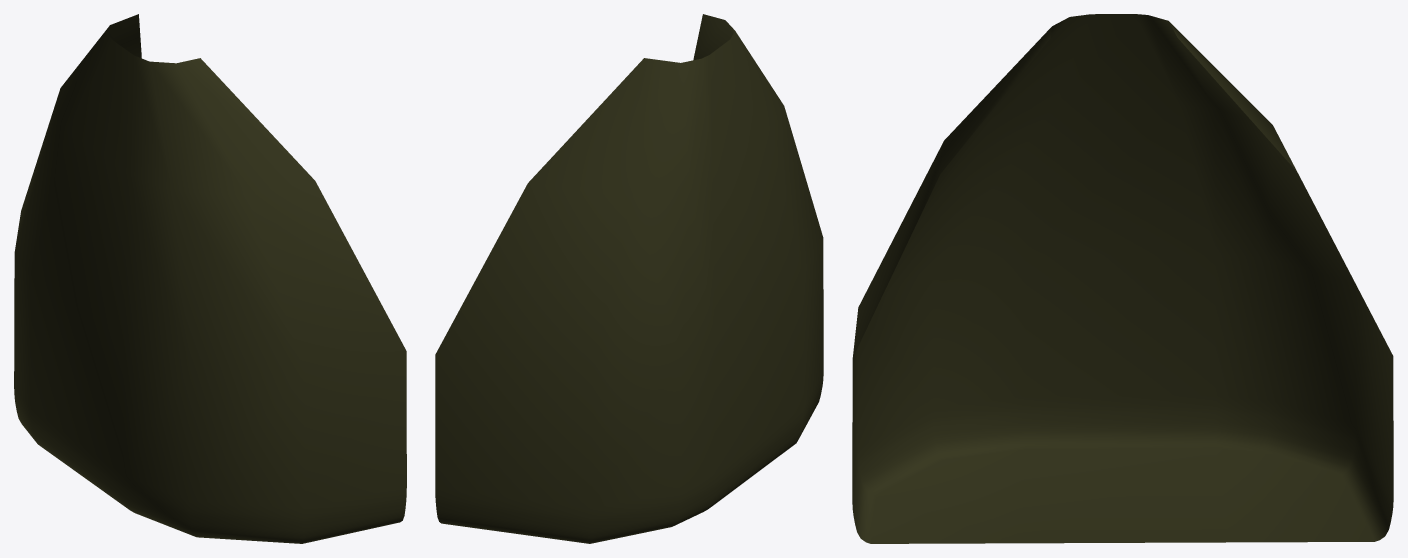
The model's file is catFall_scene.fbx.
3 renders of one model, left to right at view 1: azimuth 30°, elevation 25°; view 2: azimuth 150°, elevation 25°; view 3: azimuth 270°, elevation 25°, orthographic. The views are drawn at different scales.
Parts seen in each view (by area): view 1: Plane001; view 2: Plane001; view 3: Plane001.
Boxes of the visible parts, bbox=[...] form: Plane001: bbox=[14, 14, 406, 543]; Plane001: bbox=[435, 14, 823, 543]; Plane001: bbox=[852, 14, 1393, 543].
Size of the model in its own units: 149 by 302 by 330.
